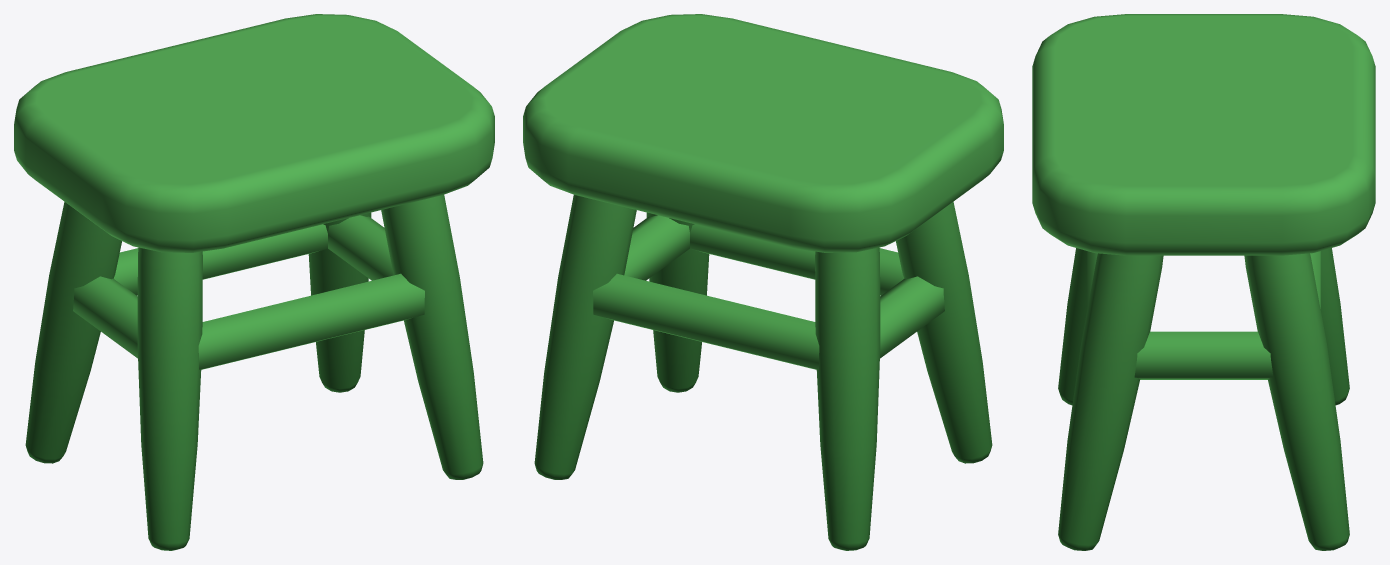
Rendered from Nightstand_03.glb.
The picture shows the model from 3 angles, left to right: view 1: azimuth 30°, elevation 25°; view 2: azimuth 150°, elevation 25°; view 3: azimuth 270°, elevation 25°; orthographic projection.
Parts seen in each view (by area): view 1: Nightstand_03; view 2: Nightstand_03; view 3: Nightstand_03.
Boxes of the visible parts, <box> form: Nightstand_03: <box>14,14,494,550</box>; Nightstand_03: <box>523,14,1003,550</box>; Nightstand_03: <box>1032,14,1375,550</box>.
Bounding box in the file's own units: 0.6 × 0.5544 × 0.46.
Materials: 1 (1 with a texture image).
